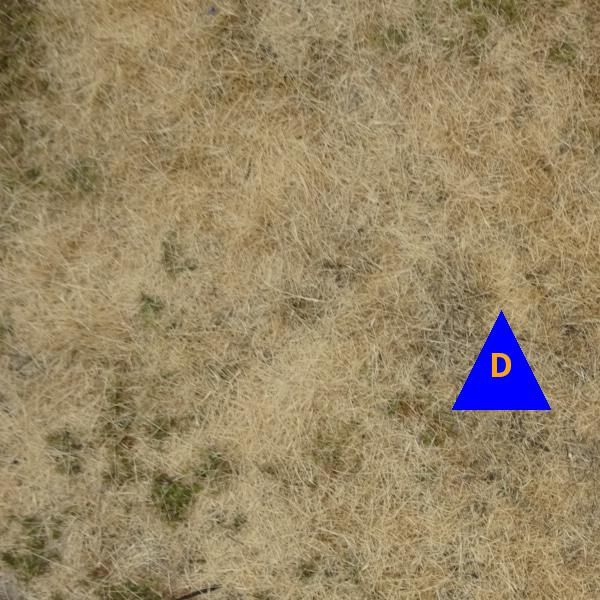Triangle: (451, 310, 551, 410)
